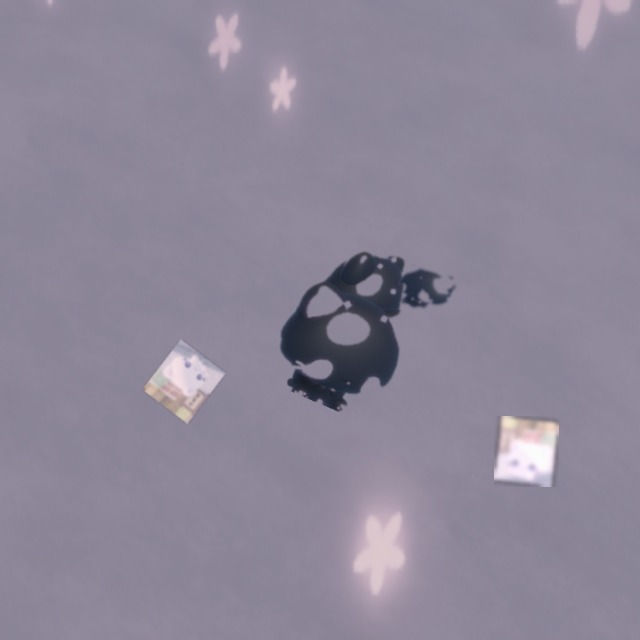urso_branco: (142, 339, 226, 424), (494, 416, 559, 487)
urso_preto: (256, 213, 452, 431), (385, 257, 466, 320)
